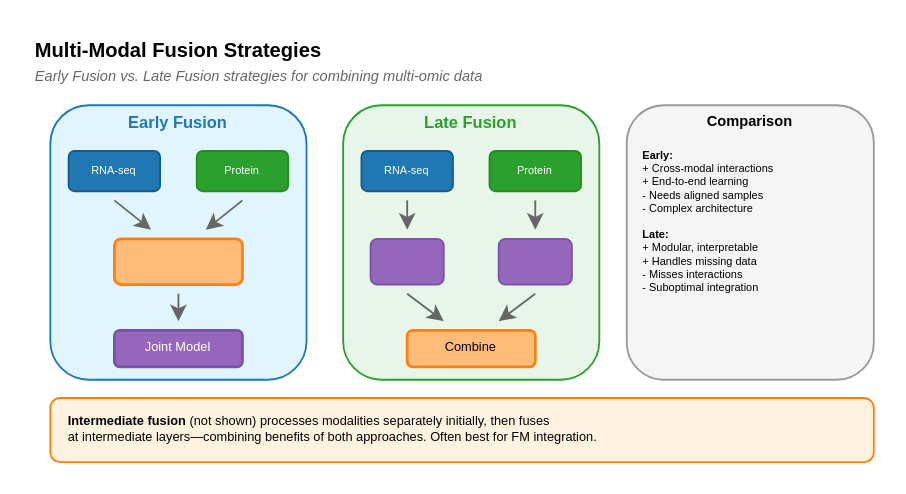
The diagram is 906 pixels wide and 494 high, and some of its shapes have lost their labels. Here are the shapes that lost their labels. From the top down, the centre of each, then its label:
At point 177,261: "Concatenate".
At point 406,261: "Model 1".
At point 534,261: "Model 2".
